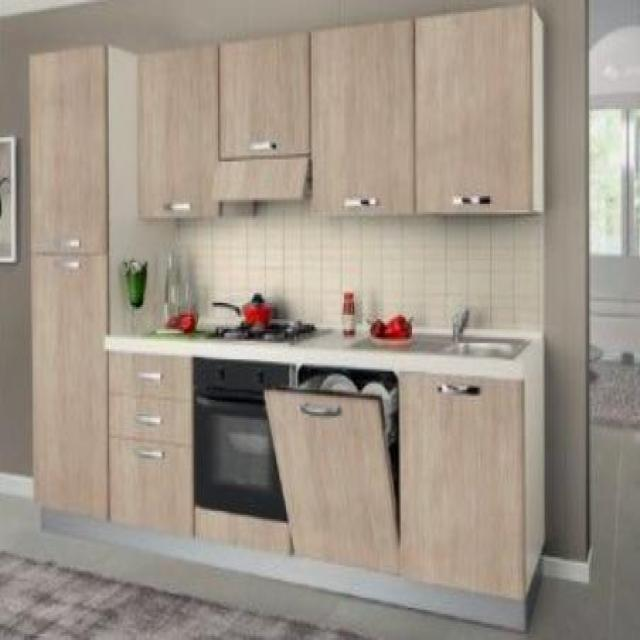dishwasher: (259, 354, 406, 582)
